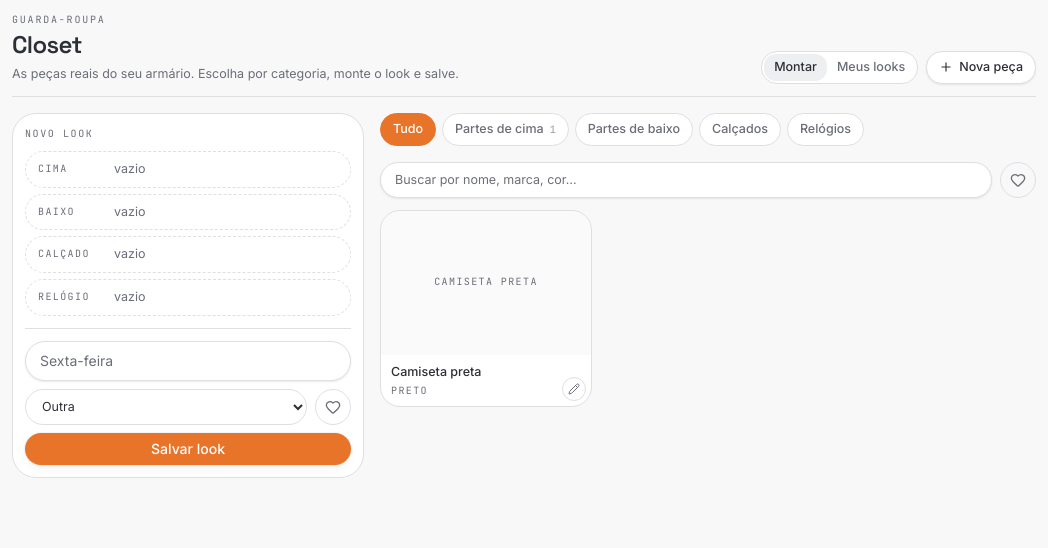
Test: building a look › refuses to save a look with no name
This screenshot has width=1048, height=548.
Click the button "Camiseta preta Camiseta preta preto". click: [486, 308]
box: [380, 210, 592, 407]
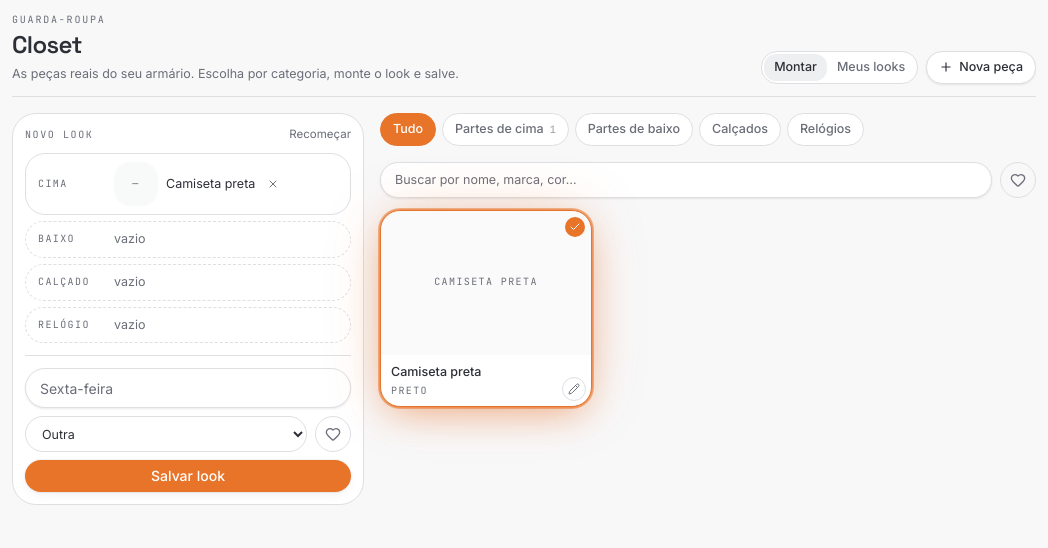
Click the button "Salvar look". click: [188, 476]
box: [25, 460, 351, 492]
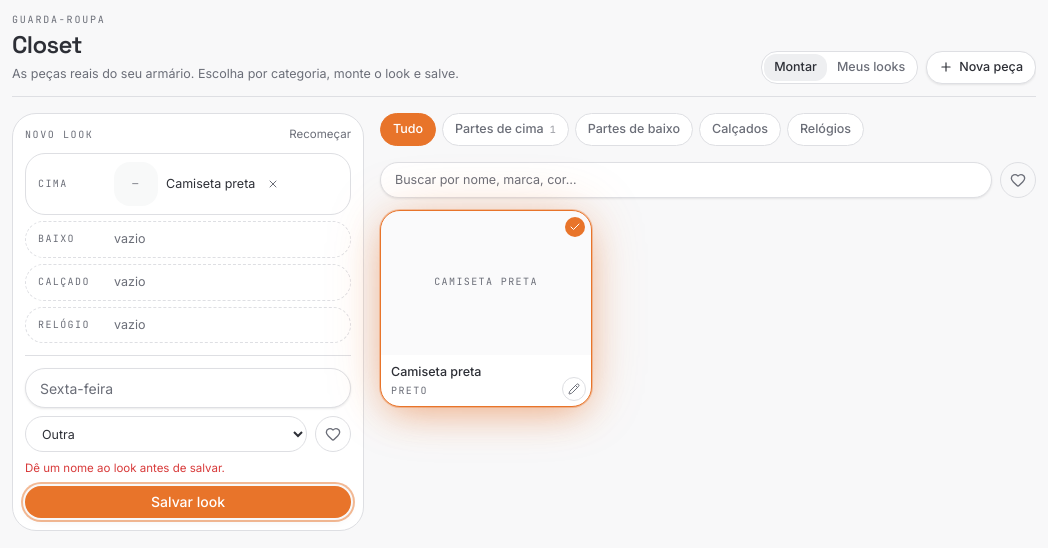
Check: the message reads "Dê um nome ao look antes de salvar.", box [25, 461, 225, 475]
